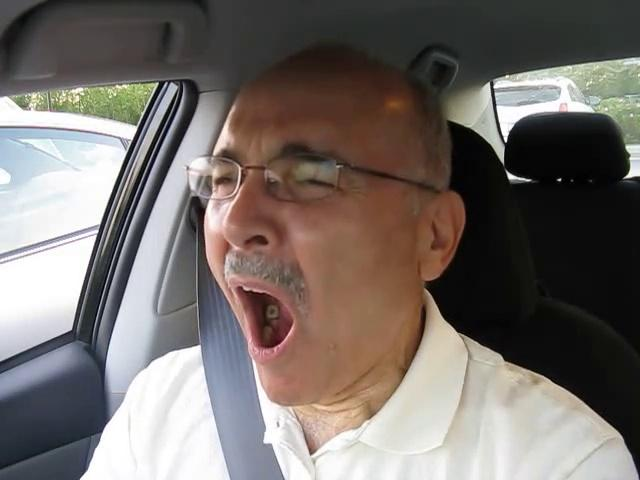close_eyeL: (188, 156, 256, 204)
close_eyeR: (272, 161, 358, 211)
yawn: (204, 272, 326, 369)
